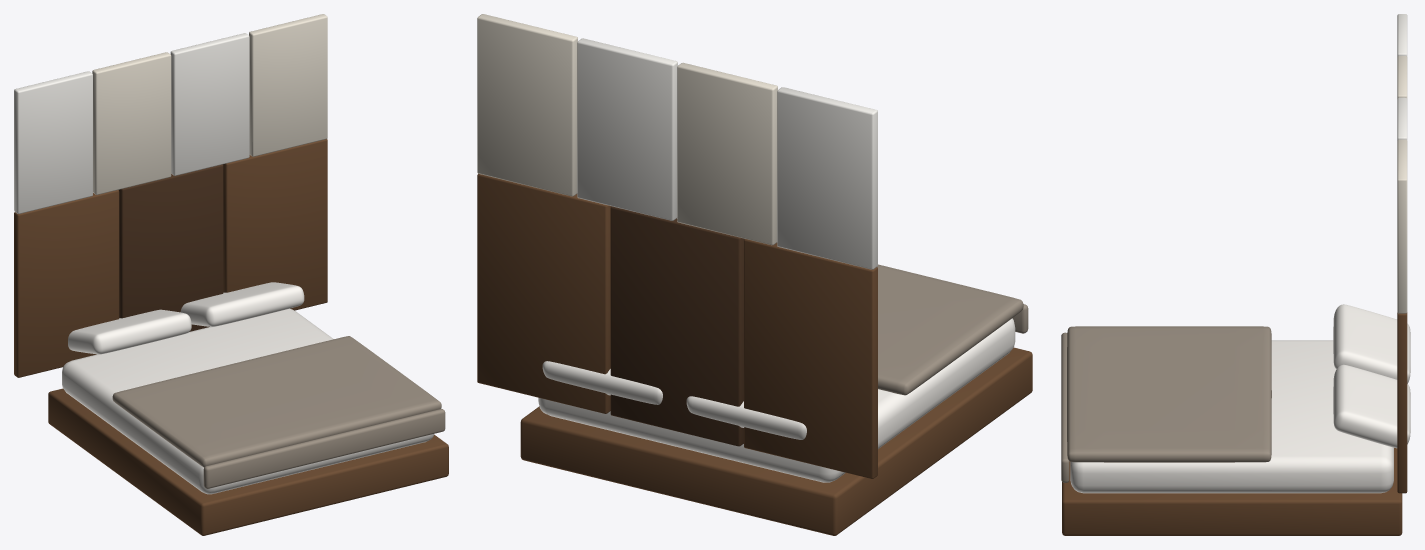
Rendered from bl_bed_king_walnut.glb.
3 renders of one model, left to right at view 1: azimuth 30°, elevation 25°; view 2: azimuth 150°, elevation 25°; view 3: azimuth 270°, elevation 25°, orthographic. The views are drawn at different scales.
Visible parts, largest first — view 1: duvet, platform, hb0, mattress, hb2, hb1, hbTop2, hbTop3, hbTop1, hbTop0, duvetDrop, pillow (+1 smaller); view 2: hb0, hb2, platform, hb1, hbTop0, hbTop2, hbTop3, hbTop1, duvet, mattress, pillow, pillow.001; view 3: duvet, mattress, platform, pillow.001, pillow, hb2, hbTop3, duvetDrop, hbTop2, hbTop0, hbTop1.
Boxes of the visible parts, x1=… form: duvet: x1=112, y1=336, x2=441, y2=467; platform: x1=48, y1=388, x2=448, y2=535; hb0: x1=14, y1=190, x2=119, y2=377; mattress: x1=62, y1=308, x2=434, y2=494; hb2: x1=223, y1=139, x2=327, y2=310; hb1: x1=119, y1=164, x2=223, y2=331; hbTop2: x1=170, y1=33, x2=249, y2=175; hbTop3: x1=249, y1=14, x2=327, y2=156; hbTop1: x1=92, y1=52, x2=171, y2=194; hbTop0: x1=14, y1=71, x2=92, y2=213; duvetDrop: x1=203, y1=409, x2=445, y2=488; pillow: x1=68, y1=309, x2=191, y2=354; hb0: x1=744, y1=239, x2=877, y2=478; hb2: x1=477, y1=173, x2=611, y2=413; platform: x1=520, y1=347, x2=1032, y2=535; hb1: x1=610, y1=206, x2=744, y2=446; hbTop0: x1=777, y1=87, x2=877, y2=269; hbTop2: x1=577, y1=38, x2=677, y2=220; hbTop3: x1=477, y1=14, x2=577, y2=196; hbTop1: x1=677, y1=62, x2=777, y2=245; duvet: x1=877, y1=264, x2=1023, y2=395; mattress: x1=538, y1=318, x2=1015, y2=482; pillow: x1=686, y1=396, x2=806, y2=439; pillow.001: x1=542, y1=361, x2=662, y2=404; duvet: x1=1067, y1=326, x2=1271, y2=462; mattress: x1=1070, y1=340, x2=1393, y2=493; platform: x1=1062, y1=448, x2=1402, y2=535; pillow.001: x1=1333, y1=364, x2=1410, y2=448; pillow: x1=1333, y1=304, x2=1410, y2=383; hb2: x1=1397, y1=312, x2=1407, y2=493; hbTop3: x1=1397, y1=139, x2=1407, y2=313; duvetDrop: x1=1061, y1=332, x2=1069, y2=482; hbTop2: x1=1397, y1=97, x2=1407, y2=140; hbTop0: x1=1397, y1=14, x2=1407, y2=56; hbTop1: x1=1397, y1=56, x2=1407, y2=98.
Size of the model in its own units: 2.38 by 2.5 by 2.12.
